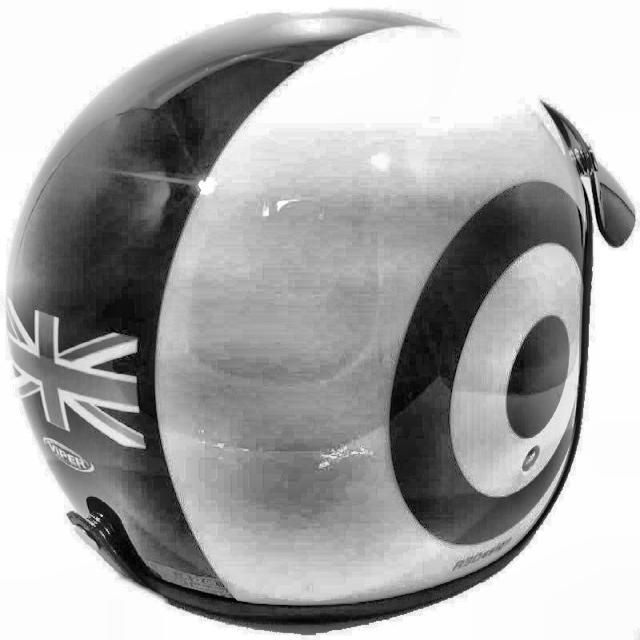Helmet: (11, 5, 640, 636)
